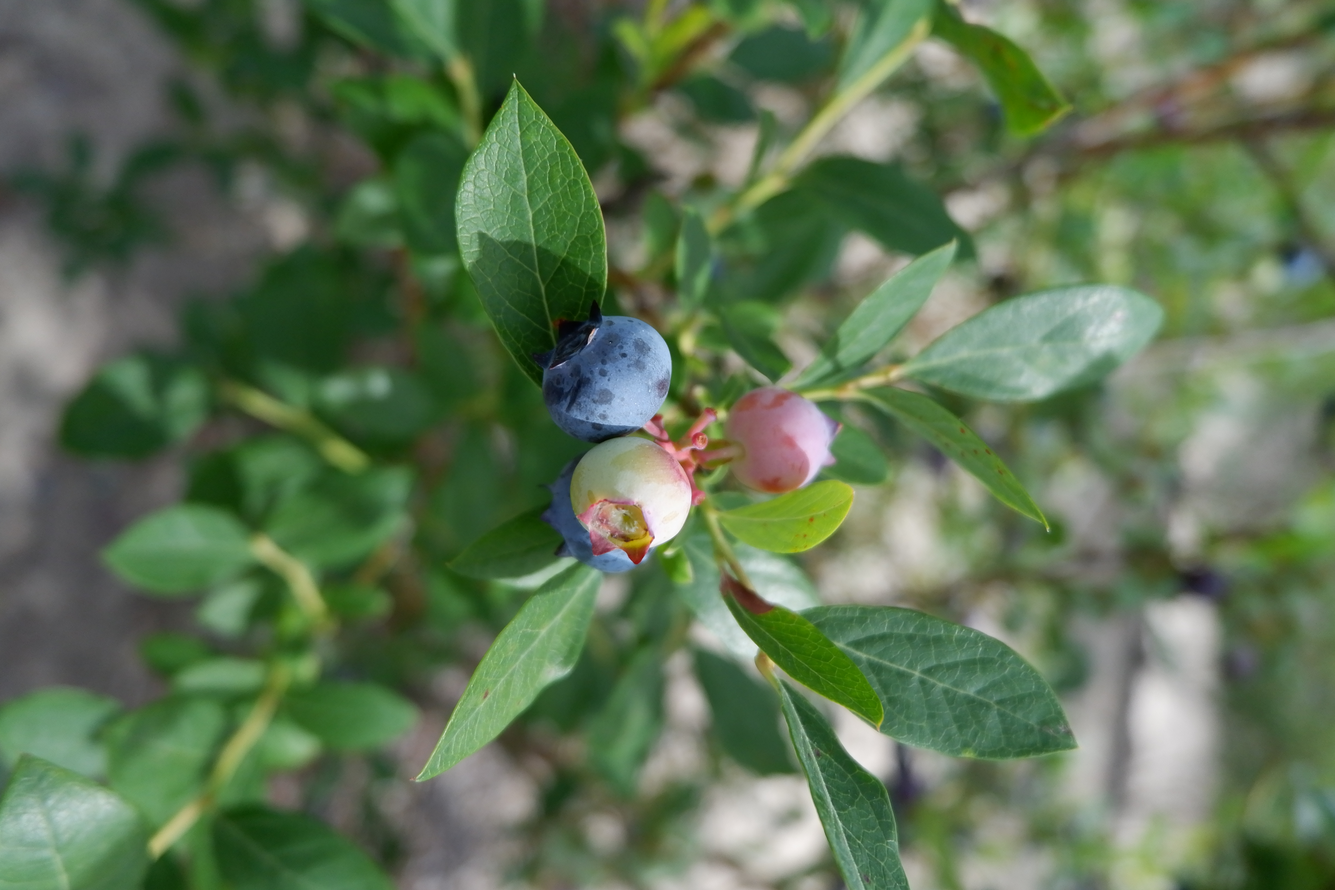Immature: (570, 439, 691, 556), (723, 387, 835, 492)
Mature: (543, 315, 670, 438), (545, 463, 641, 573)
